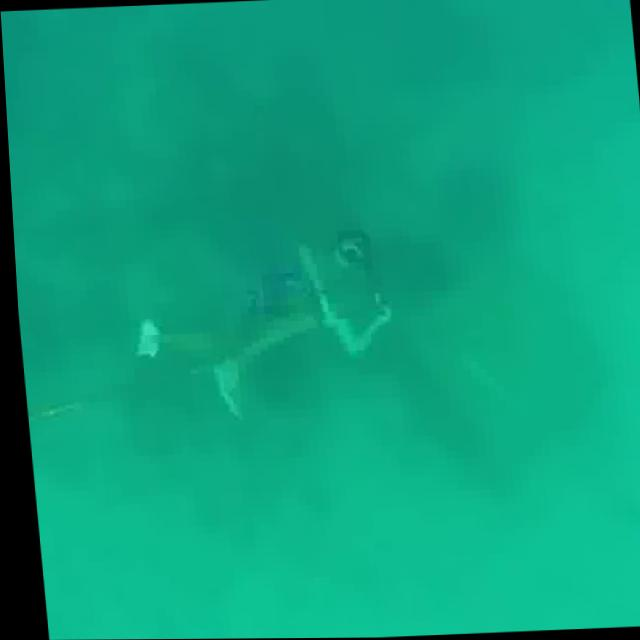human: (113, 212, 408, 432)
